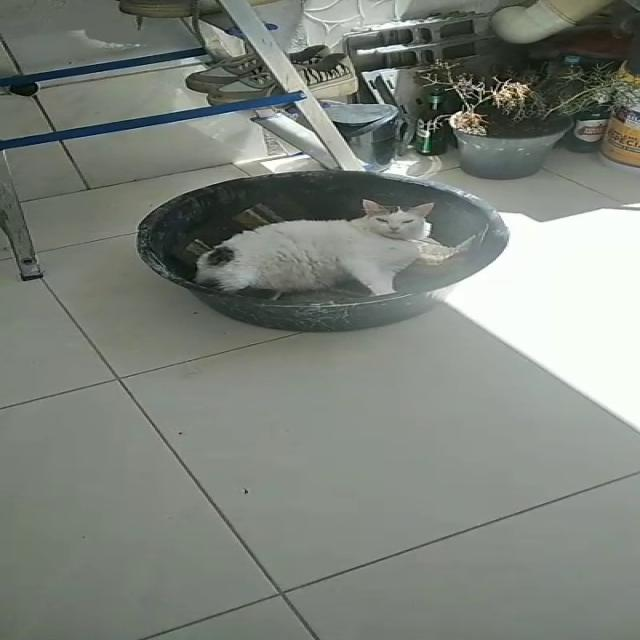Simba: (188, 186, 470, 300)
